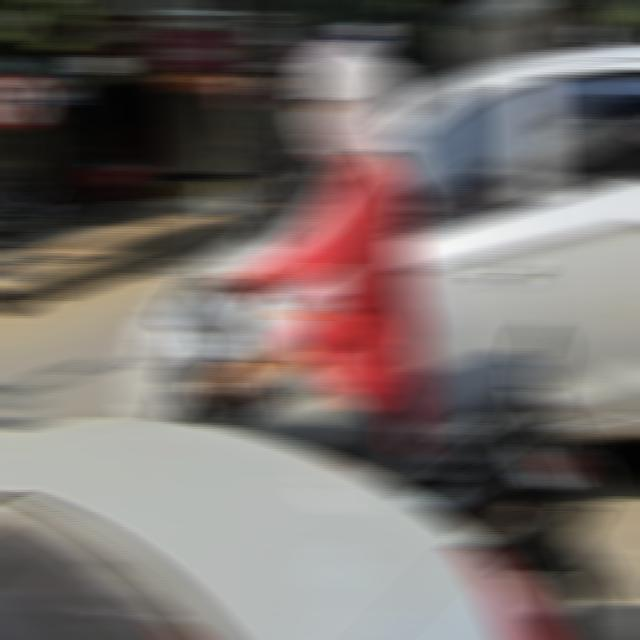Without Helmet: (292, 37, 396, 161)
